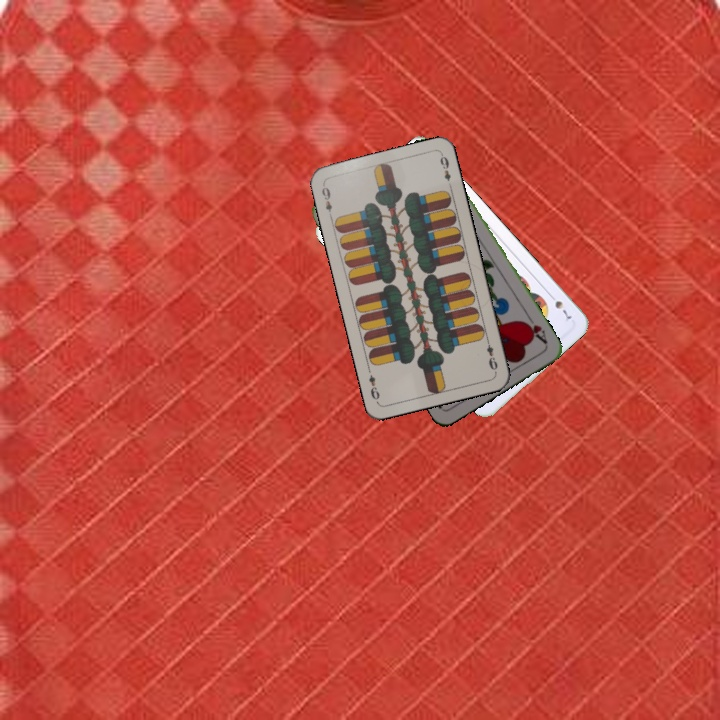E9: (482, 334, 500, 374), (318, 181, 335, 221)
HA: (520, 311, 550, 347)
S7: (545, 289, 575, 322)
